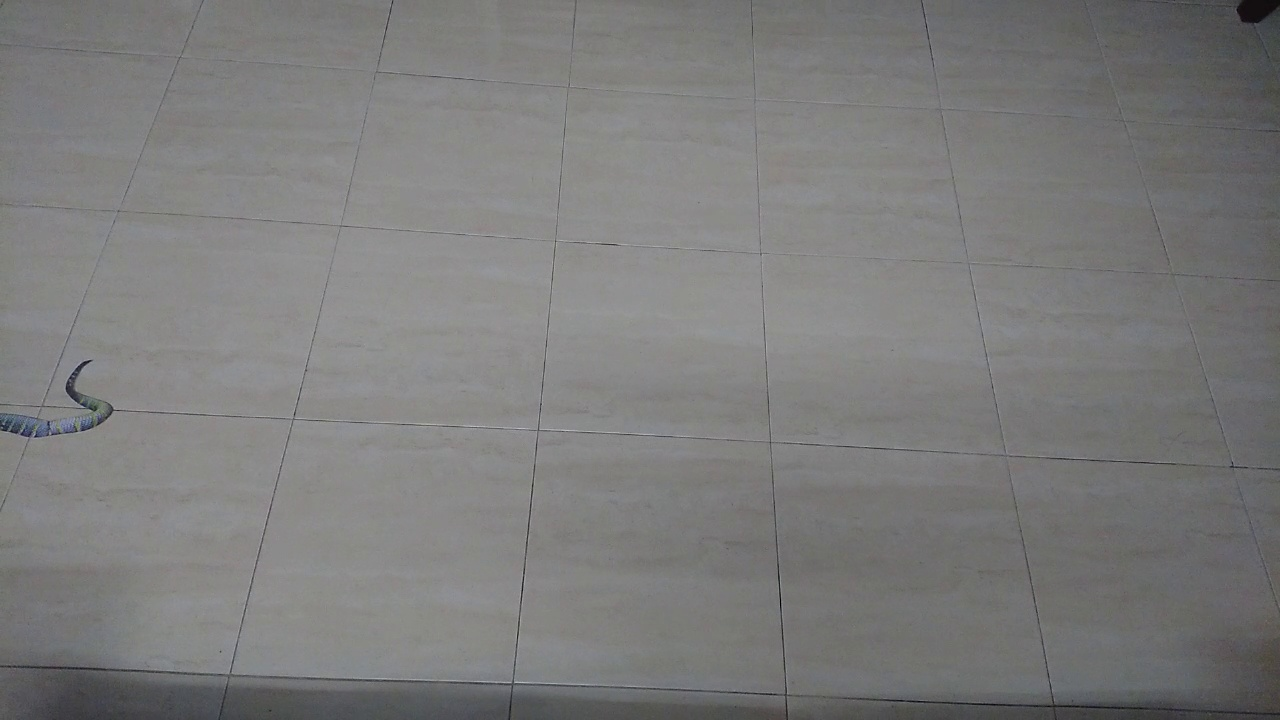snake: (1, 345, 135, 450)
